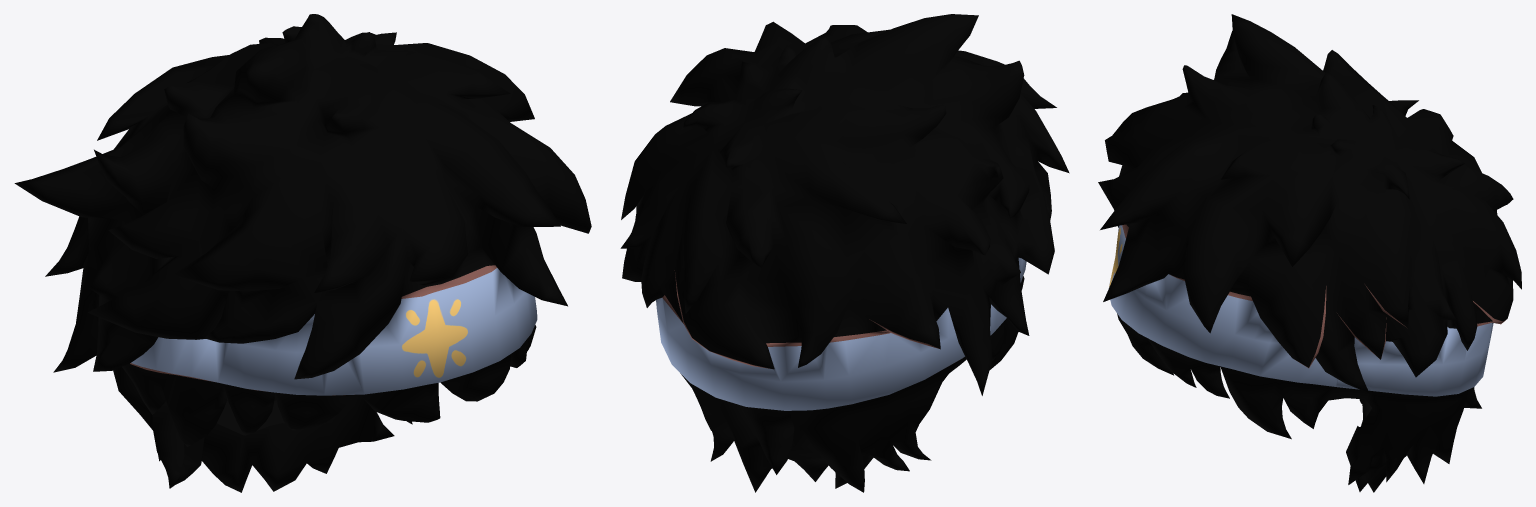
Rendered from Mesh_Char_Player_Male_BaseSet03_Hair.FBX.
The picture shows the model from 3 angles, left to right: view 1: azimuth 30°, elevation 25°; view 2: azimuth 150°, elevation 25°; view 3: azimuth 270°, elevation 25°; orthographic projection. The views are drawn at different scales.
Parts seen in each view (by area): view 1: Mesh_Char_Player_Male_BaseSet03_Hair; view 2: Mesh_Char_Player_Male_BaseSet03_Hair; view 3: Mesh_Char_Player_Male_BaseSet03_Hair.
Part boxes in pixels (bbox=[...]): Mesh_Char_Player_Male_BaseSet03_Hair: bbox=[14, 14, 591, 492]; Mesh_Char_Player_Male_BaseSet03_Hair: bbox=[620, 14, 1069, 492]; Mesh_Char_Player_Male_BaseSet03_Hair: bbox=[1098, 14, 1521, 492].
Bounding box in the file's own units: 33.36 × 36.11 × 33.39.
